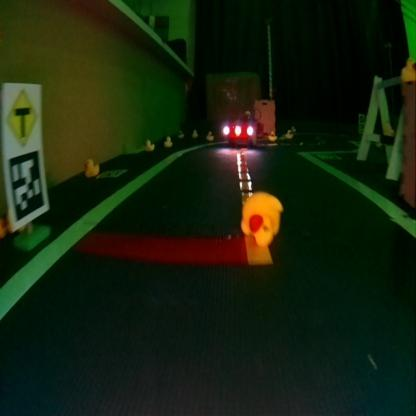Duckie: (240, 193, 279, 245), (84, 159, 98, 175), (144, 140, 154, 150), (267, 130, 276, 140), (164, 136, 172, 146), (284, 130, 292, 138), (192, 130, 198, 138), (207, 132, 211, 140)
Duckiebot: (223, 116, 256, 146)
Intersection sign: (5, 88, 39, 146)
QR code: (7, 151, 45, 222)
